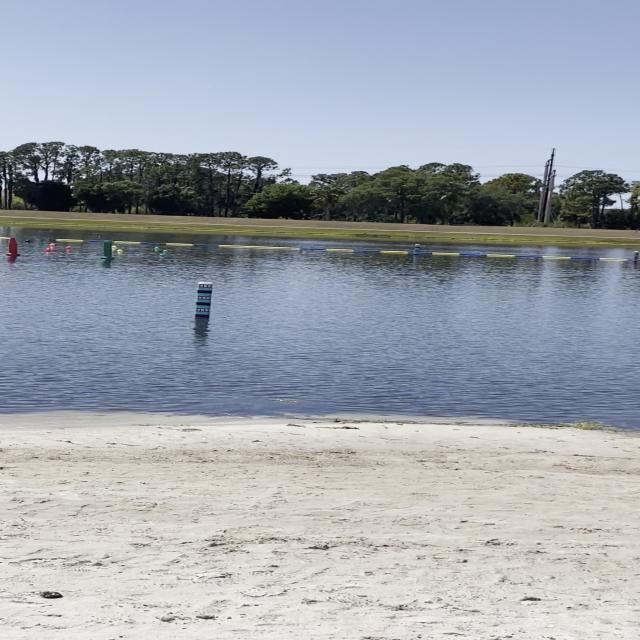buoy: (118, 248, 124, 252), (46, 248, 51, 252), (154, 247, 160, 250), (112, 245, 116, 249), (163, 250, 168, 253), (66, 246, 71, 249), (50, 244, 56, 246), (26, 239, 30, 242), (159, 254, 164, 256)
